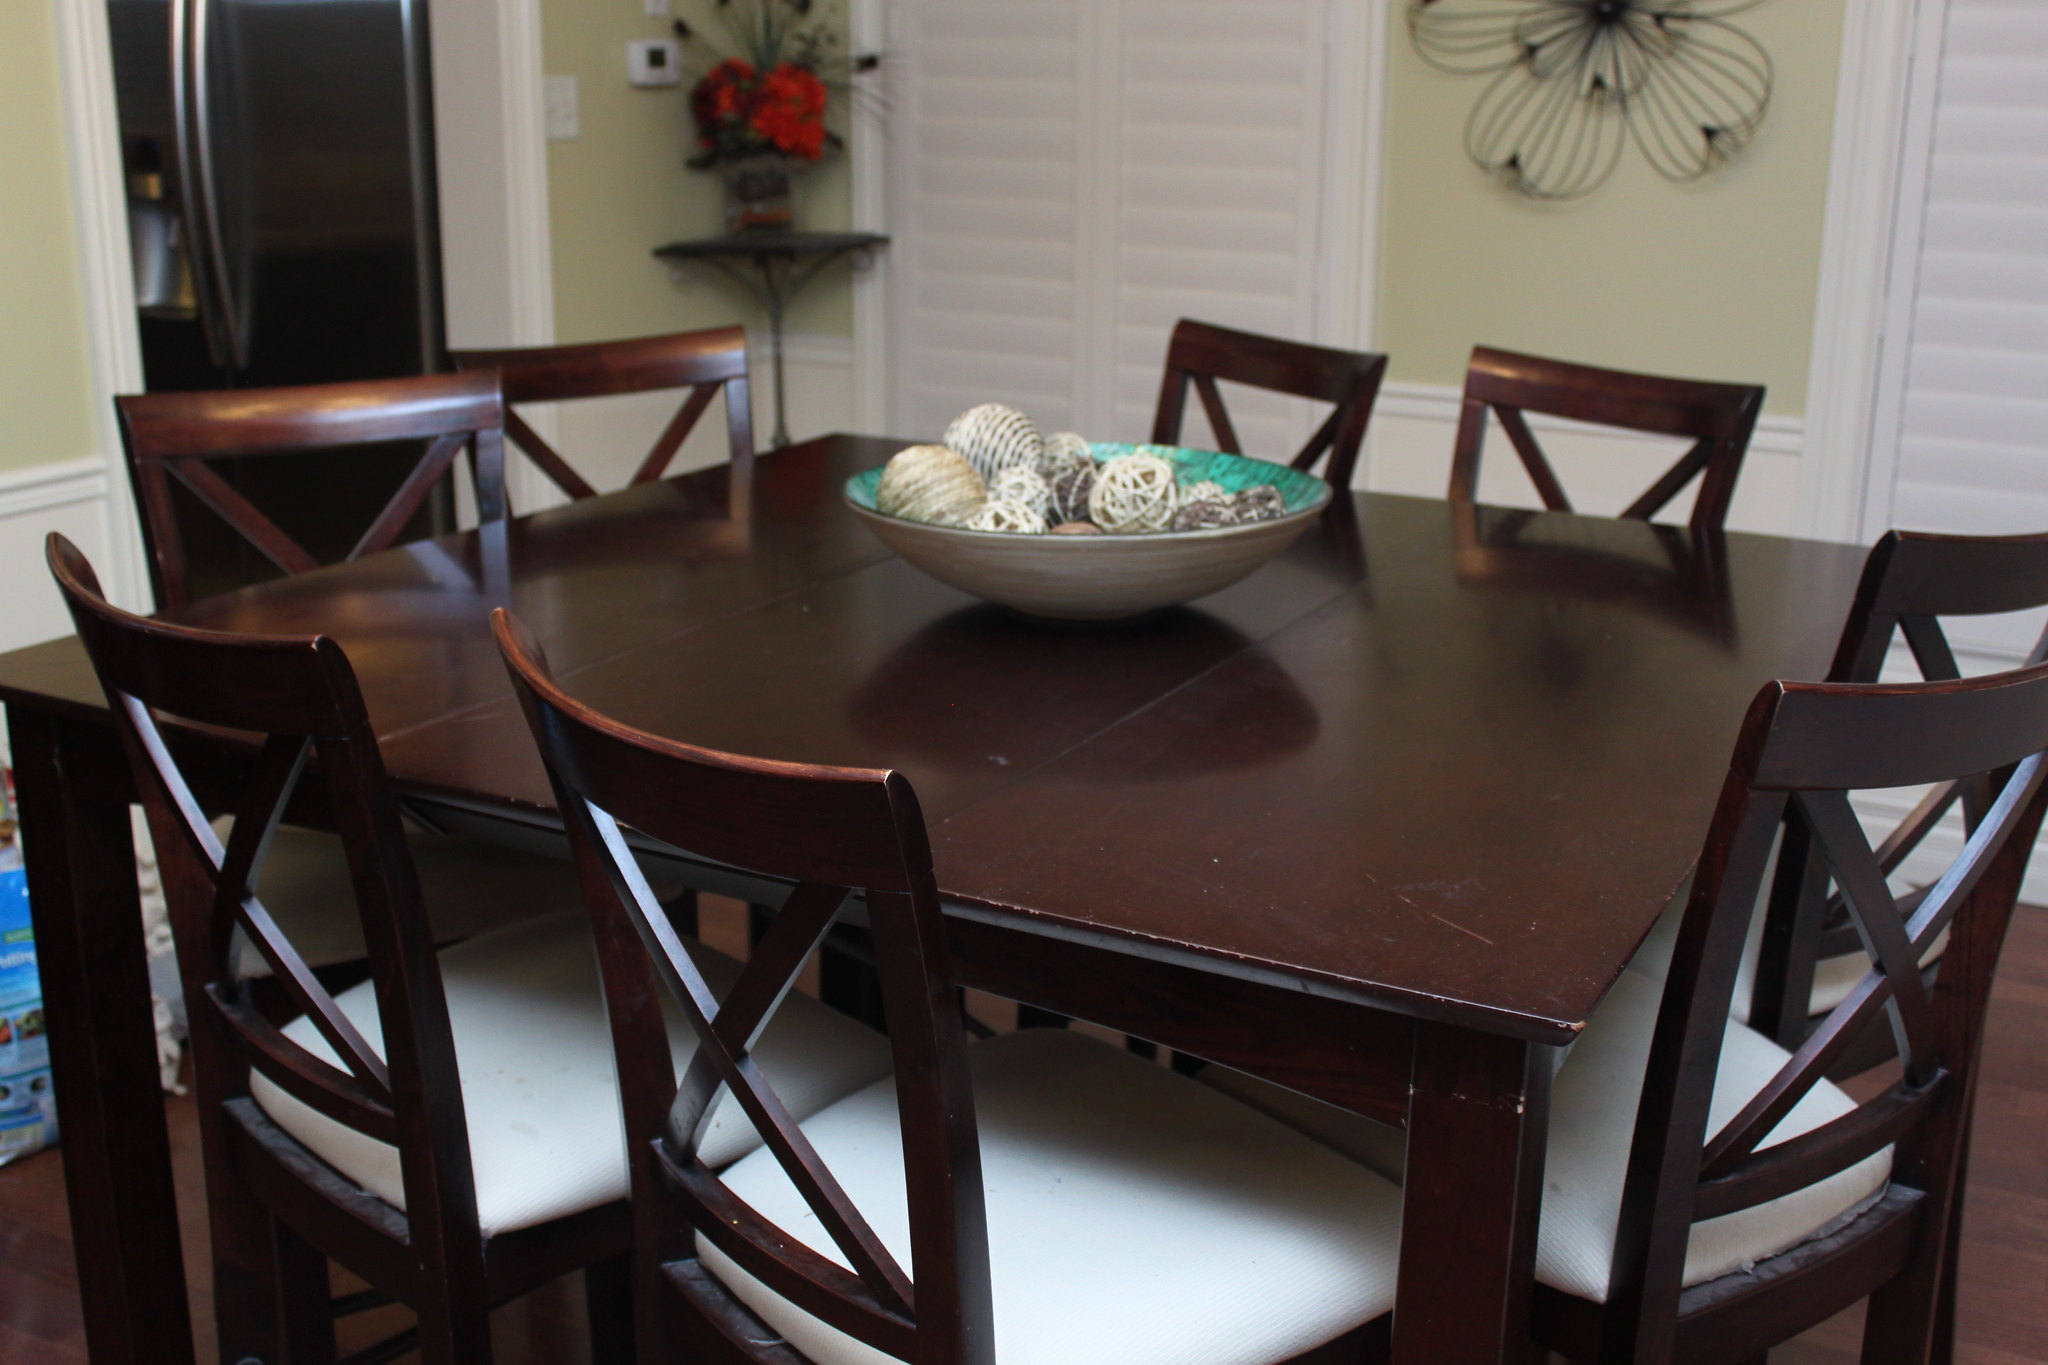dining table: (15, 338, 1733, 1344)
